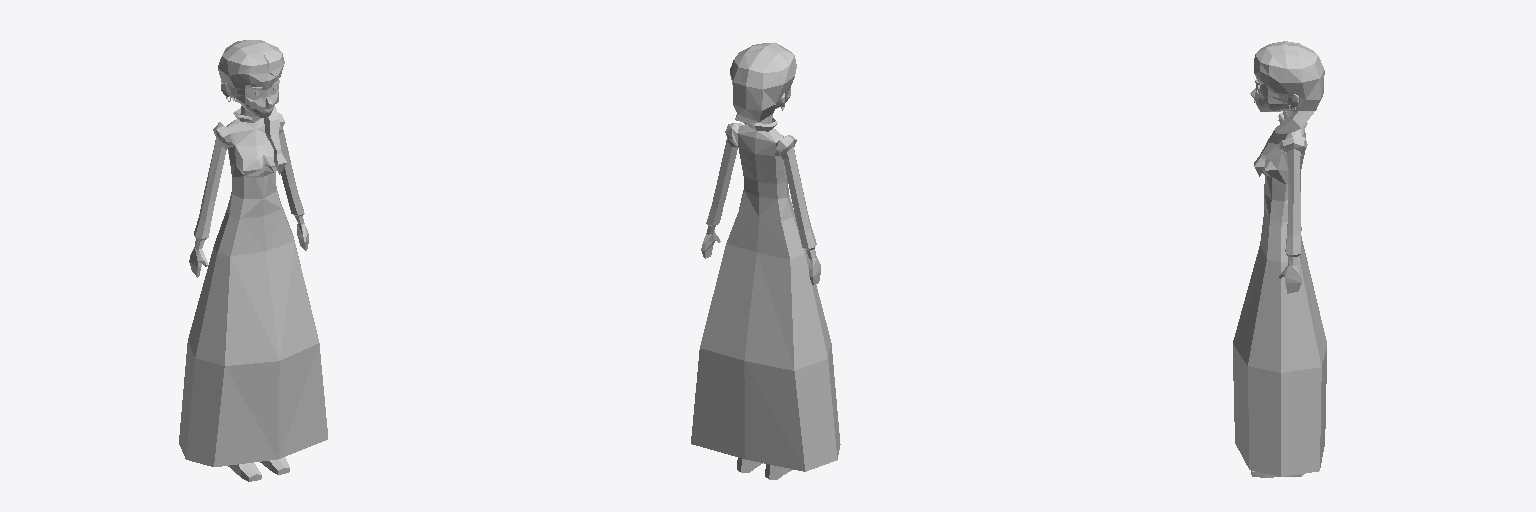
Rendered from human_15.obj.
The picture shows the model from 3 angles: view 1: azimuth 30°, elevation 25°; view 2: azimuth 150°, elevation 25°; view 3: azimuth 270°, elevation 25°; orthographic projection.
Parts seen in each view (by area): view 1: body, hair; view 2: body, hair; view 3: body, hair.
Part boxes in pixels (x1,y1,x2,y2): body: (179,73,327,481); hair: (218,40,286,174); body: (691,88,840,479); hair: (730,42,796,124); body: (1233,75,1326,477); hair: (1254,41,1324,176).
Bounding box in the file's own units: 0.6435 × 1.86 × 0.3788.